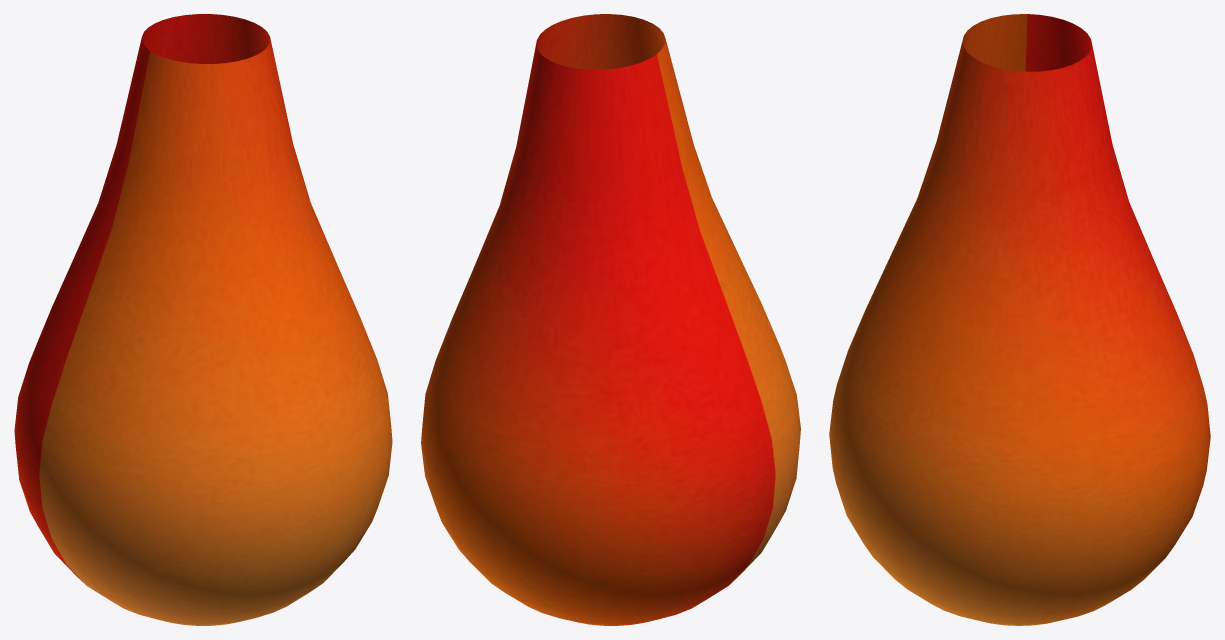
File: uploads_files_3055398_Flame.obj
3 views of the same model, side by side, from view 1: azimuth 30°, elevation 25°; view 2: azimuth 150°, elevation 25°; view 3: azimuth 270°, elevation 25° (orthographic).
Parts seen in each view (by area): view 1: Flame; view 2: Flame; view 3: Flame.
Part boxes in pixels (<box>): Flame: <box>14,14,392,625</box>; Flame: <box>421,14,800,625</box>; Flame: <box>829,14,1210,625</box>.
Bounding box in the file's own units: 2 × 3.3 × 2.
1 material, 1 textured.
